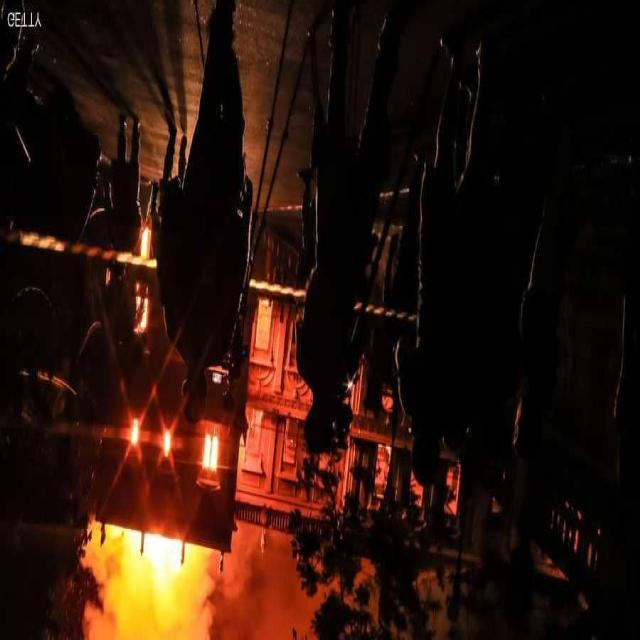fire: (83, 470, 240, 640)
person: (159, 0, 281, 424), (104, 120, 146, 260)
